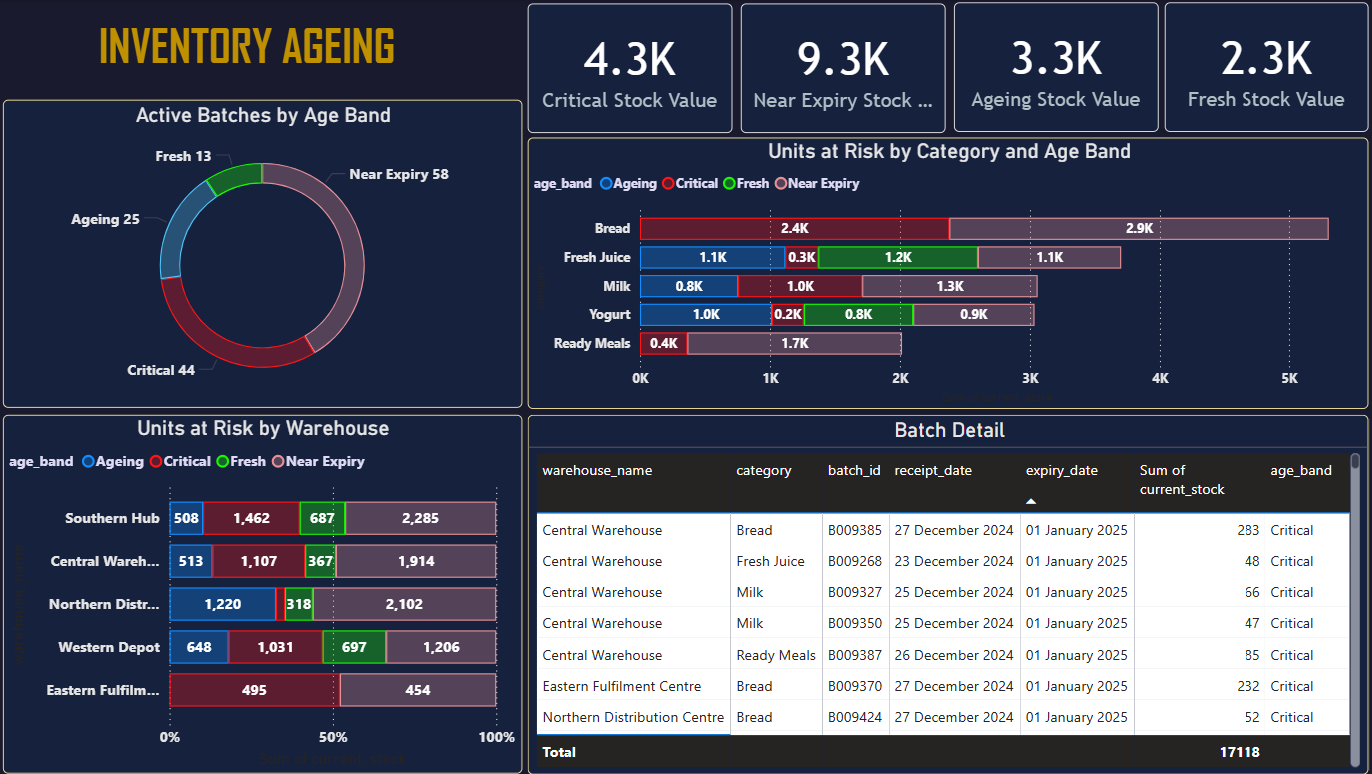

Layout of this report page (visuals, bound fields, positions):
{"tool":"powerbi","page":{"name":"Inventory Ageing","canvas":[1280,720],"ordinal":5},"visuals":[{"type":"textbox","box":[90.5,11.7,293.8,62.8],"z":0},{"type":"donutChart","title":"Active Batches by Age Band","fields":{"Category":["vw_inventory_aging.age_band"],"Y":["CountNonNull(vw_inventory_aging.batch_id)"]},"box":[6.4,92.6,482.2,286.3],"z":1000},{"type":"hundredPercentStackedBarChart","title":"Units at Risk by Warehouse","fields":{"Category":["vw_inventory_aging.warehouse_name"],"Y":["Sum(vw_inventory_aging.current_stock)"],"Series":["vw_inventory_aging.age_band"]},"box":[6.5,385.3,482.2,333.2],"z":2000},{"type":"card","fields":{"Values":["_Measures.Critical Stock Value"]},"box":[494,3.1,190.1,120.3],"z":3000,"group":"g2"},{"type":"tableEx","title":"Batch Detail","fields":{"Values":["vw_inventory_aging.warehouse_name","vw_inventory_aging.category","vw_inventory_aging.batch_id","vw_inventory_aging.receipt_date","vw_inventory_aging.expiry_date","Sum(vw_inventory_aging.current_stock)","vw_inventory_aging.age_band"]},"box":[493.9,385.3,782.4,334.2],"z":3000},{"type":"card","fields":{"Values":["_Measures.Near Expiry Stock Value"]},"box":[691.7,3.1,190.1,120.3],"z":4000,"group":"g2"},{"type":"barChart","title":"Units at Risk by Category and Age Band","fields":{"Category":["vw_inventory_aging.category"],"Y":["Sum(vw_inventory_aging.current_stock)"],"Series":["vw_inventory_aging.age_band"]},"box":[493.9,127.7,782.4,252.3],"z":4000},{"type":"group","id":"g1","title":"Group 1","box":[494,2,782.4,121.3],"z":5000},{"type":"card","fields":{"Values":["_Measures.Ageing Stock Value"]},"box":[890.1,2,190.1,120.3],"z":5000,"group":"g2"},{"type":"group","id":"g2","title":"Group 2","box":[494,2,782.4,121.3],"z":5001,"group":"g1"},{"type":"card","fields":{"Values":["_Measures.Fresh Stock Value"]},"box":[1086.3,2,190.1,120.3],"z":6000,"group":"g2"}]}

Visuals, with their boxes in screenshot pixels (x1, y1, x2, y2), scaled from the page's 1280x720 canvas onto the 1372x774 screenshot:
textbox: Rect(97, 13, 412, 80)
"Active Batches by Age Band" donutChart: Rect(7, 100, 524, 407)
"Units at Risk by Warehouse" hundredPercentStackedBarChart: Rect(7, 414, 524, 772)
card - _Measures.Critical Stock Value: Rect(530, 3, 733, 133)
"Batch Detail" tableEx: Rect(529, 414, 1368, 773)
card - _Measures.Near Expiry Stock Value: Rect(741, 3, 945, 133)
"Units at Risk by Category and Age Band" barChart: Rect(529, 137, 1368, 408)
"Group 1" group: Rect(530, 2, 1368, 133)
card - _Measures.Ageing Stock Value: Rect(954, 2, 1158, 131)
"Group 2" group: Rect(530, 2, 1368, 133)
card - _Measures.Fresh Stock Value: Rect(1164, 2, 1368, 131)
